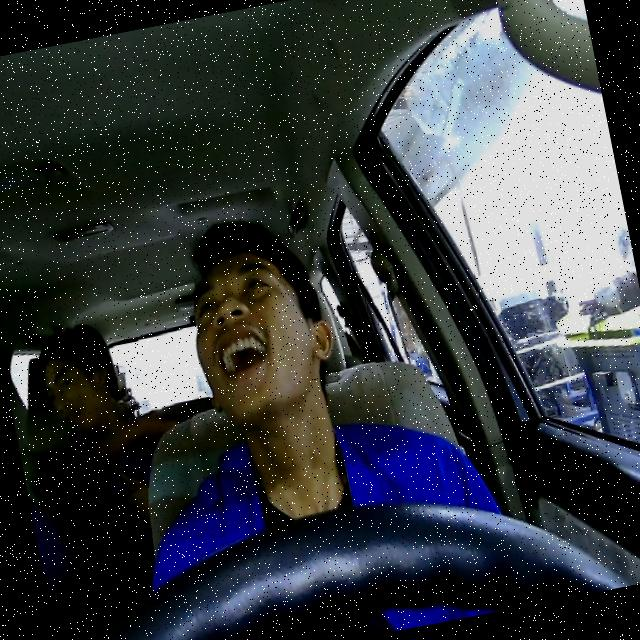yarning: (177, 231, 348, 440)
